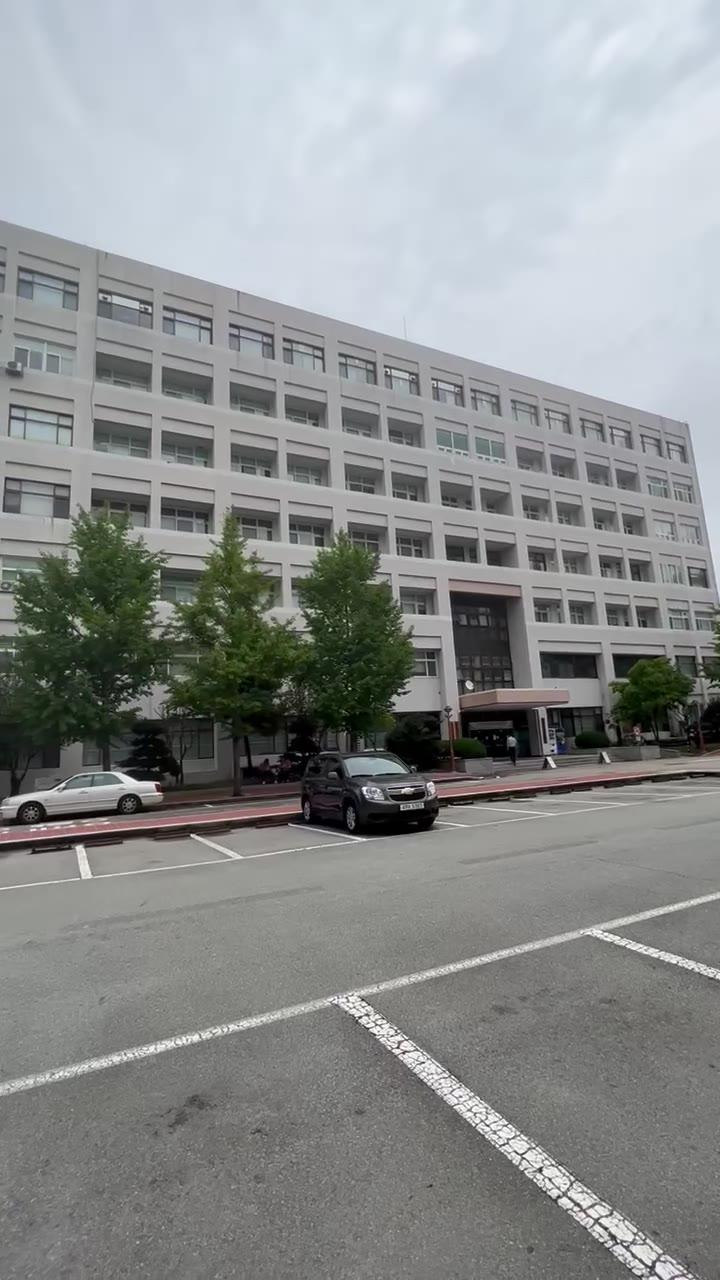building: (28, 256, 714, 546)
